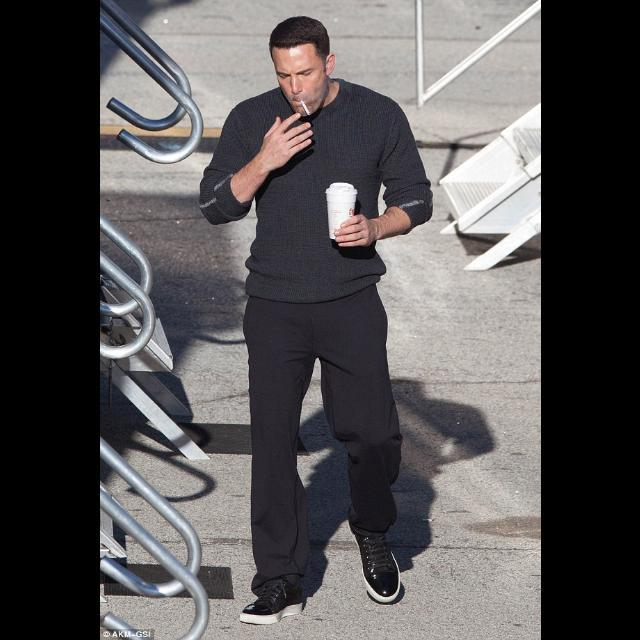rokok: (297, 100, 315, 122)
